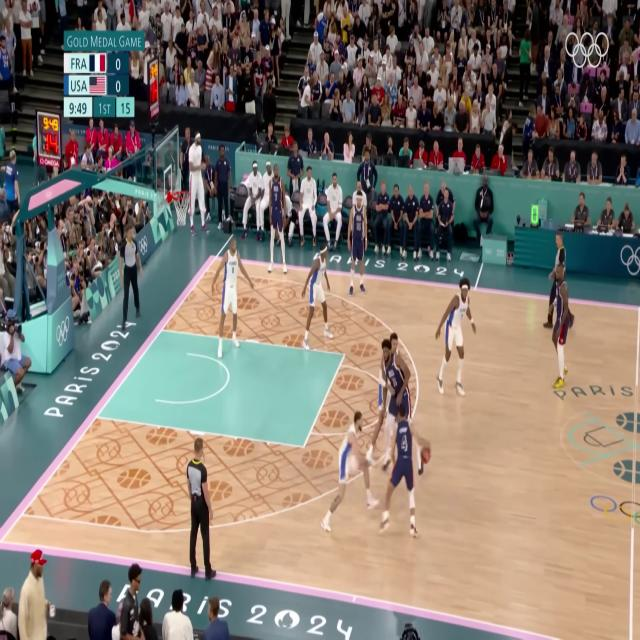ball-handler: (381, 406, 430, 541)
player: (321, 410, 380, 533), (210, 234, 256, 360), (376, 340, 417, 470), (298, 237, 339, 353), (434, 276, 472, 398), (371, 323, 403, 452), (264, 160, 290, 279), (552, 262, 572, 399), (347, 191, 369, 294)
